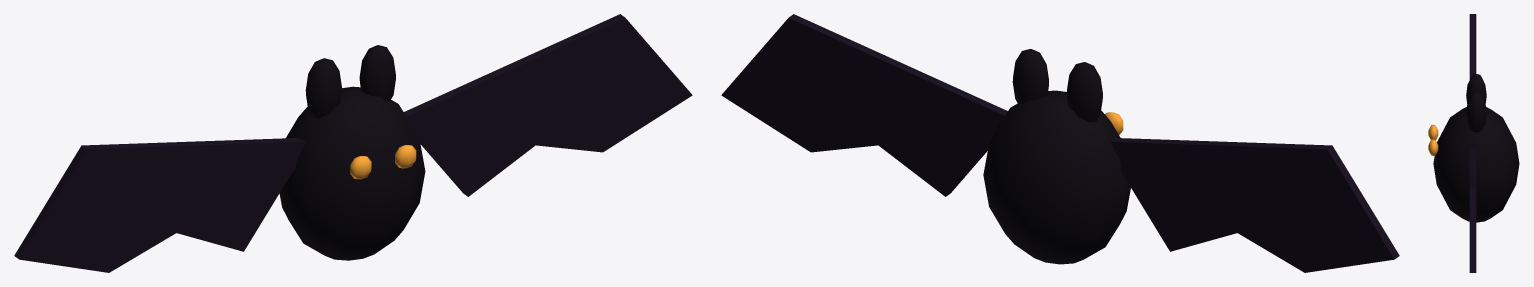
Rendered from bat.obj.
3 renders of one model, left to right at view 1: azimuth 30°, elevation 25°; view 2: azimuth 150°, elevation 25°; view 3: azimuth 270°, elevation 25°, orthographic. The views are drawn at different scales.
Visible parts, largest first — view 1: LH_bat; view 2: LH_bat; view 3: LH_bat.
Part boxes in pixels (box(x1,y1,x2,y2)): LH_bat: box(14, 14, 692, 272); LH_bat: box(721, 14, 1399, 272); LH_bat: box(1428, 14, 1519, 272).
Bounding box in the file's own units: 0.3 × 0.087 × 0.0529.
